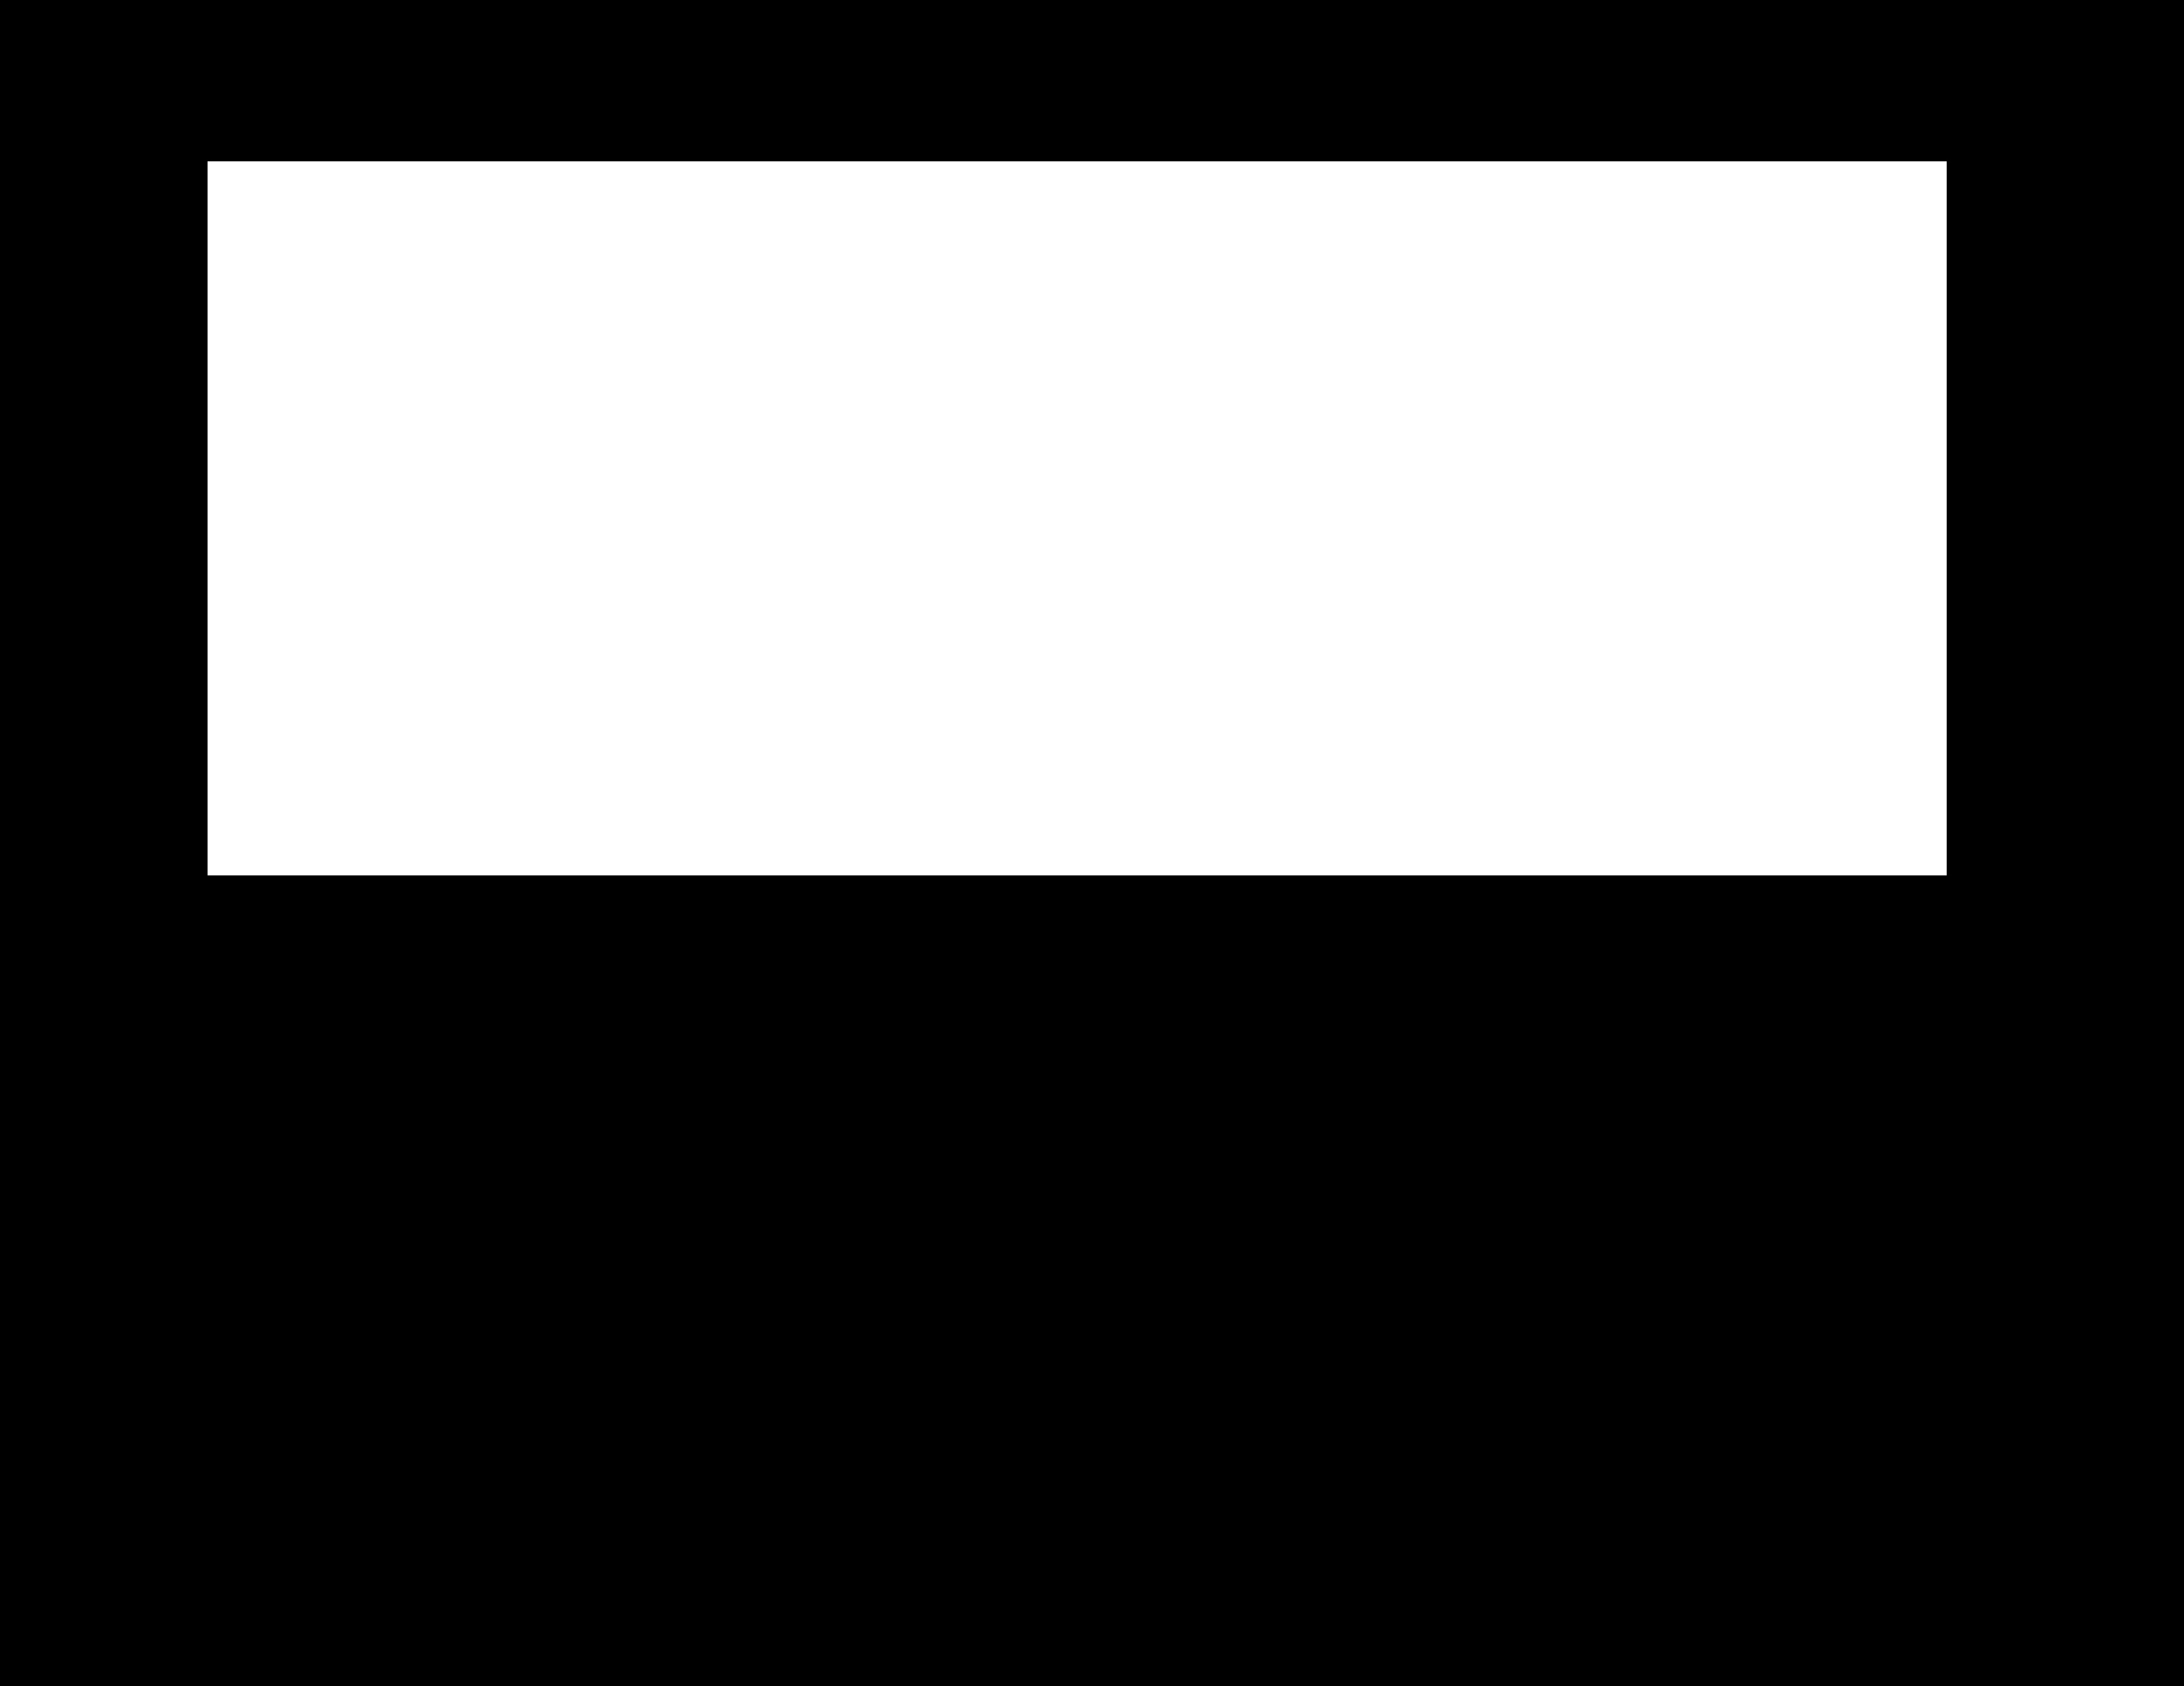table: (207, 161, 1947, 875)
